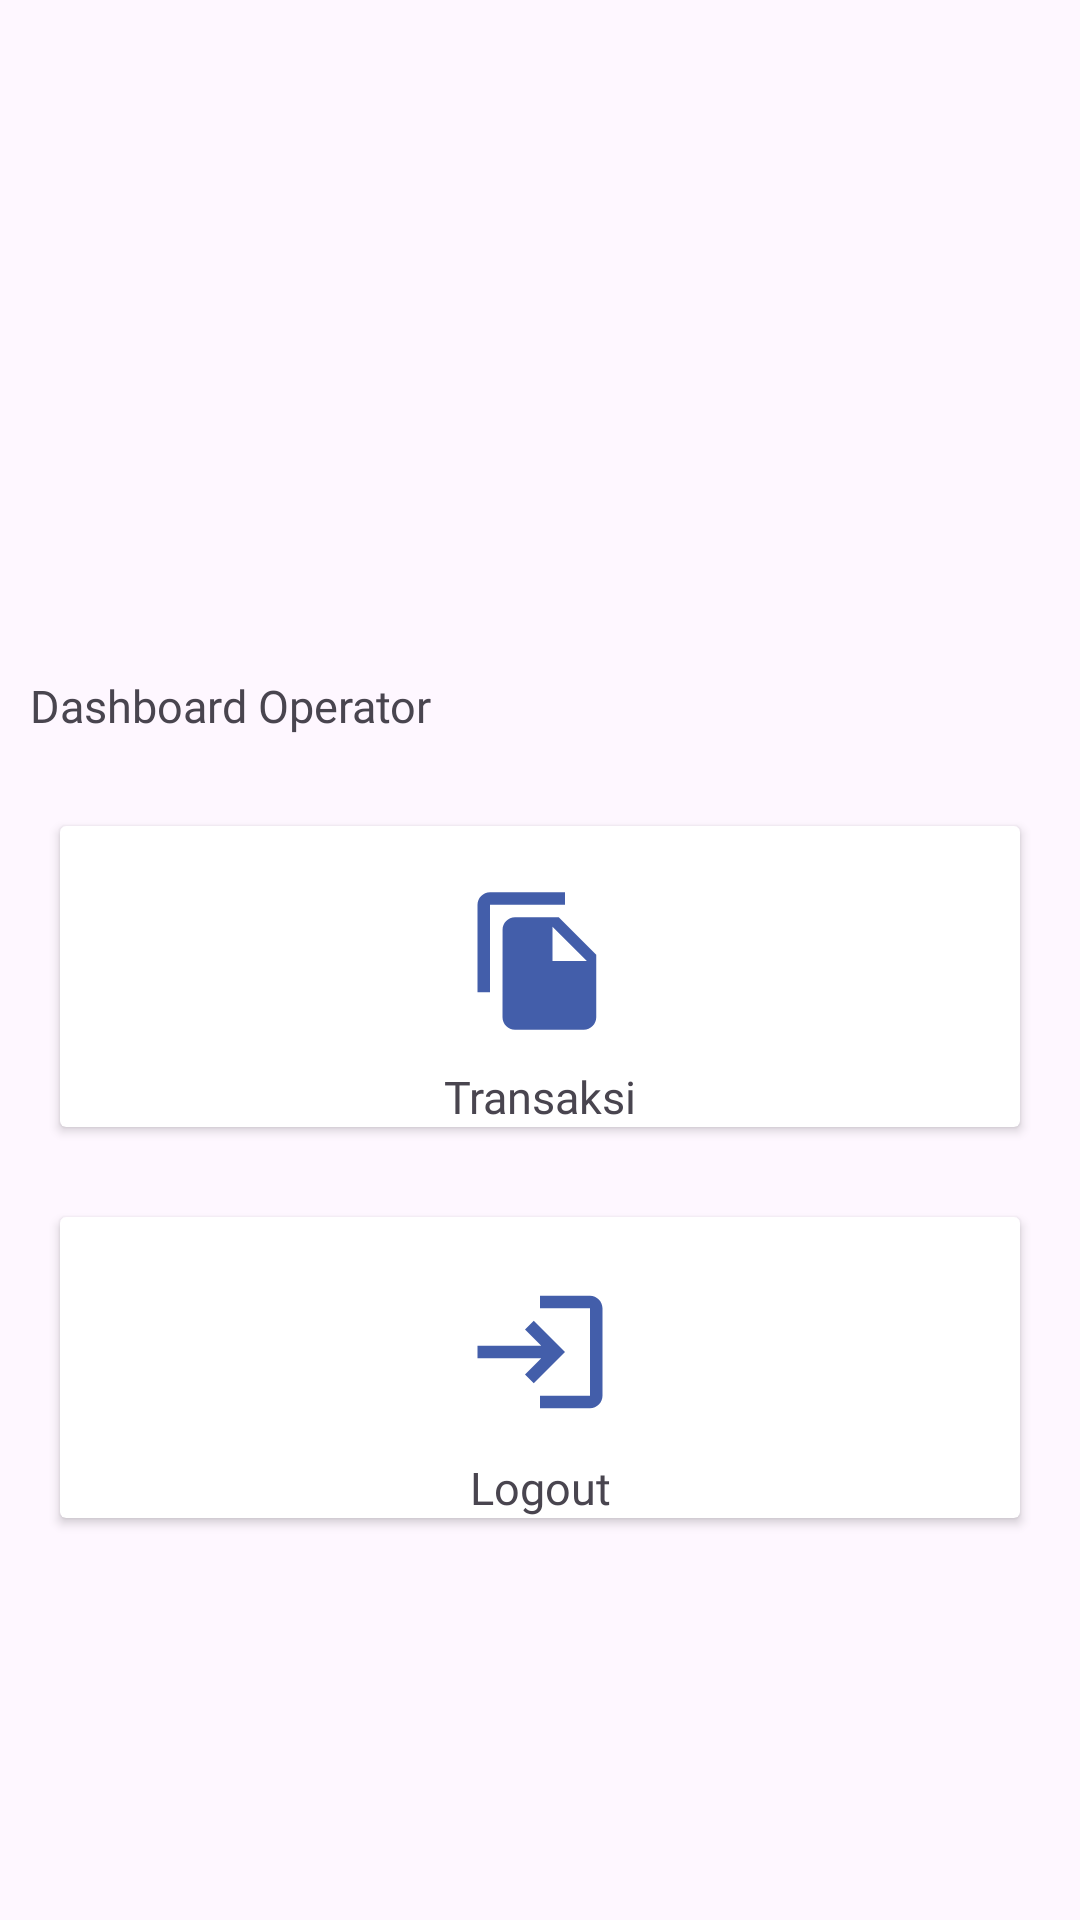

Where to tap for icons on this 1080px×1920px app screen, as (x,y):
file: (537,961)
login: (540,1352)
